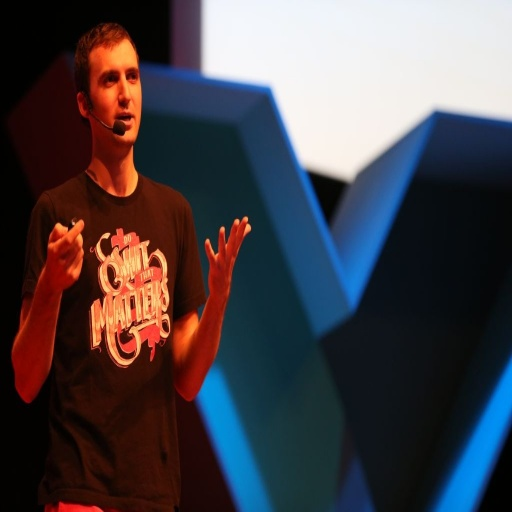hand: (27, 211, 83, 388), (204, 215, 252, 296), (44, 221, 85, 290)
